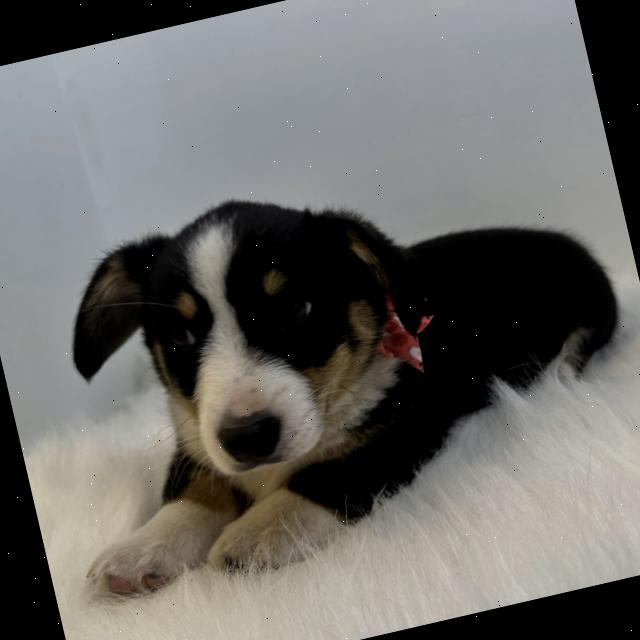corgi_dog: (38, 153, 466, 524)
